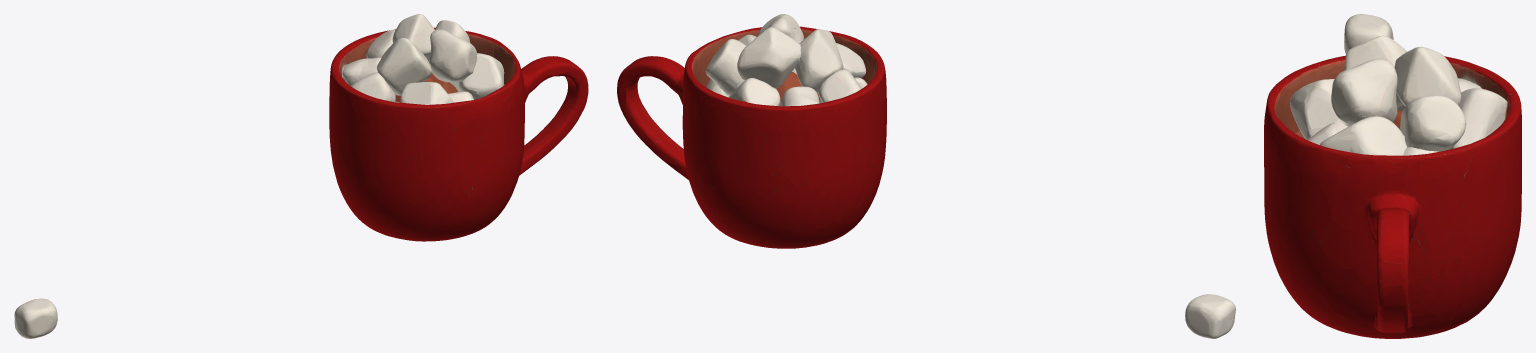
The model's file is xmas_ws_laptop.glb.
The picture shows the model from 3 angles, left to right: view 1: azimuth 30°, elevation 25°; view 2: azimuth 150°, elevation 25°; view 3: azimuth 270°, elevation 25°; orthographic projection. The views are drawn at different scales.
Bounding box in the file's own units: 1.9 × 0.6587 × 0.5528.
Materials: 1 (1 with a texture image).
